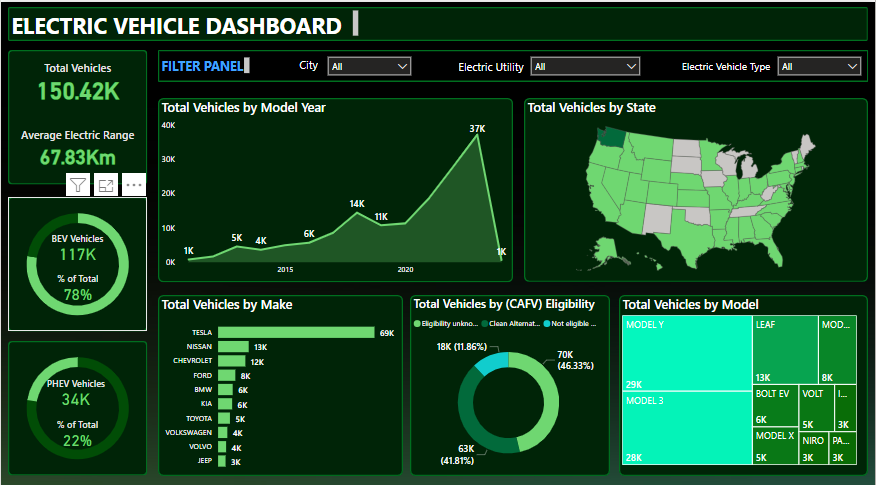

This screenshot's page, from the dashboard's own definition file:
{"tool":"powerbi","page":{"name":"Page 1","canvas":[1280,720],"ordinal":0},"visuals":[{"type":"shape","box":[10.3,7.3,1259.5,49.8],"z":0},{"type":"textbox","box":[28.3,18.4,12.8,12.8],"z":1000},{"type":"shape","box":[9.9,70.9,204.1,197],"z":2000},{"type":"card","title":"Total Vehicles","fields":{"Values":["Electric_Vehicle_Population_Data.Total Vehicles"]},"box":[9.9,85,204.1,63.8],"z":3000},{"type":"card","title":"Average Electric Range","fields":{"Values":["Electric_Vehicle_Population_Data.Avg Range"]},"box":[9.9,182.8,204.1,63.8],"z":4000},{"type":"shape","box":[9.9,284.9,204.1,197],"z":5000},{"type":"shape","box":[9.9,496.1,204.1,197],"z":6000},{"type":"donutChart","fields":{"Y":["Electric_Vehicle_Population_Data.Total Vehicles"],"Category":["Electric_Vehicle_Population_Data.Electric Vehicle Type"]},"box":[9.9,284.9,204.1,197],"z":7000},{"type":"card","title":"BEV Vehicles","fields":{"Values":["Electric_Vehicle_Population_Data.BEV Vehicles"]},"box":[65.2,337.3,92.1,46.8],"z":8000},{"type":"card","title":"% of Total","fields":{"Values":["Electric_Vehicle_Population_Data.% of BEV"]},"box":[59.5,395.4,104.9,46.8],"z":9000},{"type":"donutChart","fields":{"Y":["Electric_Vehicle_Population_Data.Total Vehicles"],"Category":["Electric_Vehicle_Population_Data.Electric Vehicle Type"]},"box":[9.9,496.1,204.1,197],"z":10000},{"type":"card","title":"PHEV Vehicles","fields":{"Values":["Electric_Vehicle_Population_Data.PHEV Vehicles"]},"box":[59.5,548.5,99.2,46.8],"z":11000},{"type":"card","title":"% of Total","fields":{"Values":["Electric_Vehicle_Population_Data.% of PHEV"]},"box":[68,609.4,89.3,46.8],"z":12000},{"type":"shape","box":[229.6,70.9,1040.3,46.8],"z":13000},{"type":"shape","box":[229.6,140.3,520,270],"z":14000},{"type":"areaChart","fields":{"Y":["Electric_Vehicle_Population_Data.Total Vehicles"],"Category":["Electric_Vehicle_Population_Data.Model Year"]},"box":[229.9,140.6,519.9,269.5],"z":15000},{"type":"shape","box":[765.9,140.6,503.8,269.5],"z":16000},{"type":"shapeMap","fields":{"Category":["Electric_Vehicle_Population_Data.State"],"Value":["Electric_Vehicle_Population_Data.Total Vehicles"]},"box":[765.9,140.6,503.8,269.5],"z":17000},{"type":"shape","box":[229.9,429.1,358.8,265.1],"z":18000},{"type":"barChart","fields":{"Category":["Electric_Vehicle_Population_Data.Make"],"Y":["Electric_Vehicle_Population_Data.Total Vehicles"]},"box":[229.9,429.1,358.8,265.1],"z":19000},{"type":"shape","box":[599,429.1,292.9,265.1],"z":20000},{"type":"donutChart","title":"Total Vehicles by  (CAFV) Eligibility","fields":{"Category":["Electric_Vehicle_Population_Data.Clean Alternative Fuel Vehicle (CAFV) Eligibility"],"Y":["Electric_Vehicle_Population_Data.Total Vehicles"]},"box":[599,429.1,288.5,265.1],"z":21000},{"type":"shape","box":[905.1,429.1,364.7,265.1],"z":22000},{"type":"treemap","fields":{"Group":["Electric_Vehicle_Population_Data.Model"],"Values":["Electric_Vehicle_Population_Data.Total Vehicles"]},"box":[905.7,429.4,352.9,253.7],"z":23000},{"type":"textbox","box":[10.3,7.3,518.4,49.8],"z":24000},{"type":"textbox","box":[229.9,76.2,139.1,33.7],"z":25000},{"type":"slicer","fields":{"Values":["Electric_Vehicle_Population_Data.City"]},"box":[468.6,70.3,142.1,46.9],"z":26000},{"type":"textbox","box":[410.1,76.2,80.5,33.7],"z":27000},{"type":"slicer","fields":{"Values":["Electric_Vehicle_Population_Data.Electric Utility"]},"box":[765.9,70.3,180.1,46.9],"z":28000},{"type":"textbox","box":[654.6,79.1,125.9,33.7],"z":29000},{"type":"slicer","fields":{"Values":["Electric_Vehicle_Population_Data.Electric Vehicle Type"]},"box":[1127.7,70.3,142.1,46.9],"z":30000},{"type":"textbox","box":[982.7,79.1,158.2,33.7],"z":30001}]}

Visuals, with their boxes in screenshot pixels (x1, y1, x2, y2), scaled from the page's 1280x720 canvas onto the 876x485 screenshot:
shape: 7,5,869,38
textbox: 19,12,28,21
shape: 7,48,146,180
"Total Vehicles" card: 7,57,146,100
"Average Electric Range" card: 7,123,146,166
shape: 7,192,146,325
shape: 7,334,146,467
donutChart - Electric_Vehicle_Population_Data.Total Vehicles x Electric_Vehicle_Population_Data.Electric Vehicle Type: 7,192,146,325
"BEV Vehicles" card: 45,227,108,259
"% of Total" card: 41,266,113,298
donutChart - Electric_Vehicle_Population_Data.Total Vehicles x Electric_Vehicle_Population_Data.Electric Vehicle Type: 7,334,146,467
"PHEV Vehicles" card: 41,369,109,401
"% of Total" card: 47,410,108,442
shape: 157,48,869,79
shape: 157,95,513,276
areaChart - Electric_Vehicle_Population_Data.Total Vehicles x Electric_Vehicle_Population_Data.Model Year: 157,95,513,276
shape: 524,95,869,276
shapeMap - Electric_Vehicle_Population_Data.State x Electric_Vehicle_Population_Data.Total Vehicles: 524,95,869,276
shape: 157,289,403,468
barChart - Electric_Vehicle_Population_Data.Make x Electric_Vehicle_Population_Data.Total Vehicles: 157,289,403,468
shape: 410,289,610,468
"Total Vehicles by  (CAFV) Eligibility" donutChart: 410,289,607,468
shape: 619,289,869,468
treemap - Electric_Vehicle_Population_Data.Model x Electric_Vehicle_Population_Data.Total Vehicles: 620,289,861,460
textbox: 7,5,362,38
textbox: 157,51,253,74
slicer - Electric_Vehicle_Population_Data.City: 321,47,418,79
textbox: 281,51,336,74
slicer - Electric_Vehicle_Population_Data.Electric Utility: 524,47,647,79
textbox: 448,53,534,76
slicer - Electric_Vehicle_Population_Data.Electric Vehicle Type: 772,47,869,79
textbox: 673,53,781,76
